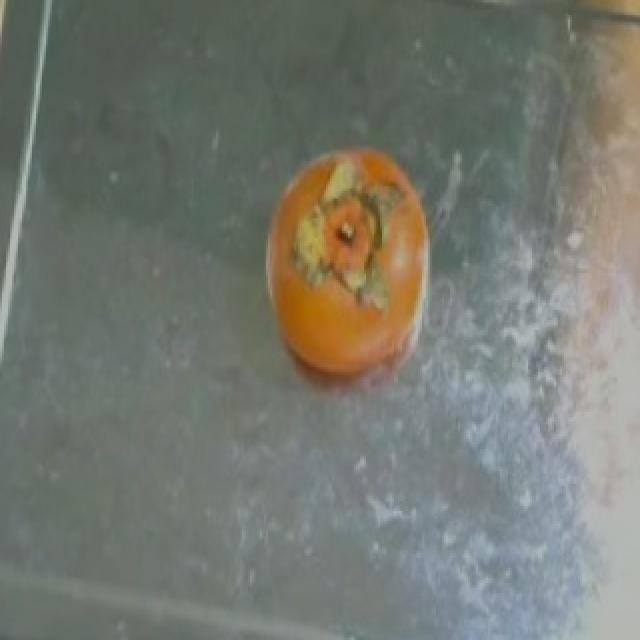Fruit: (252, 124, 458, 447)
